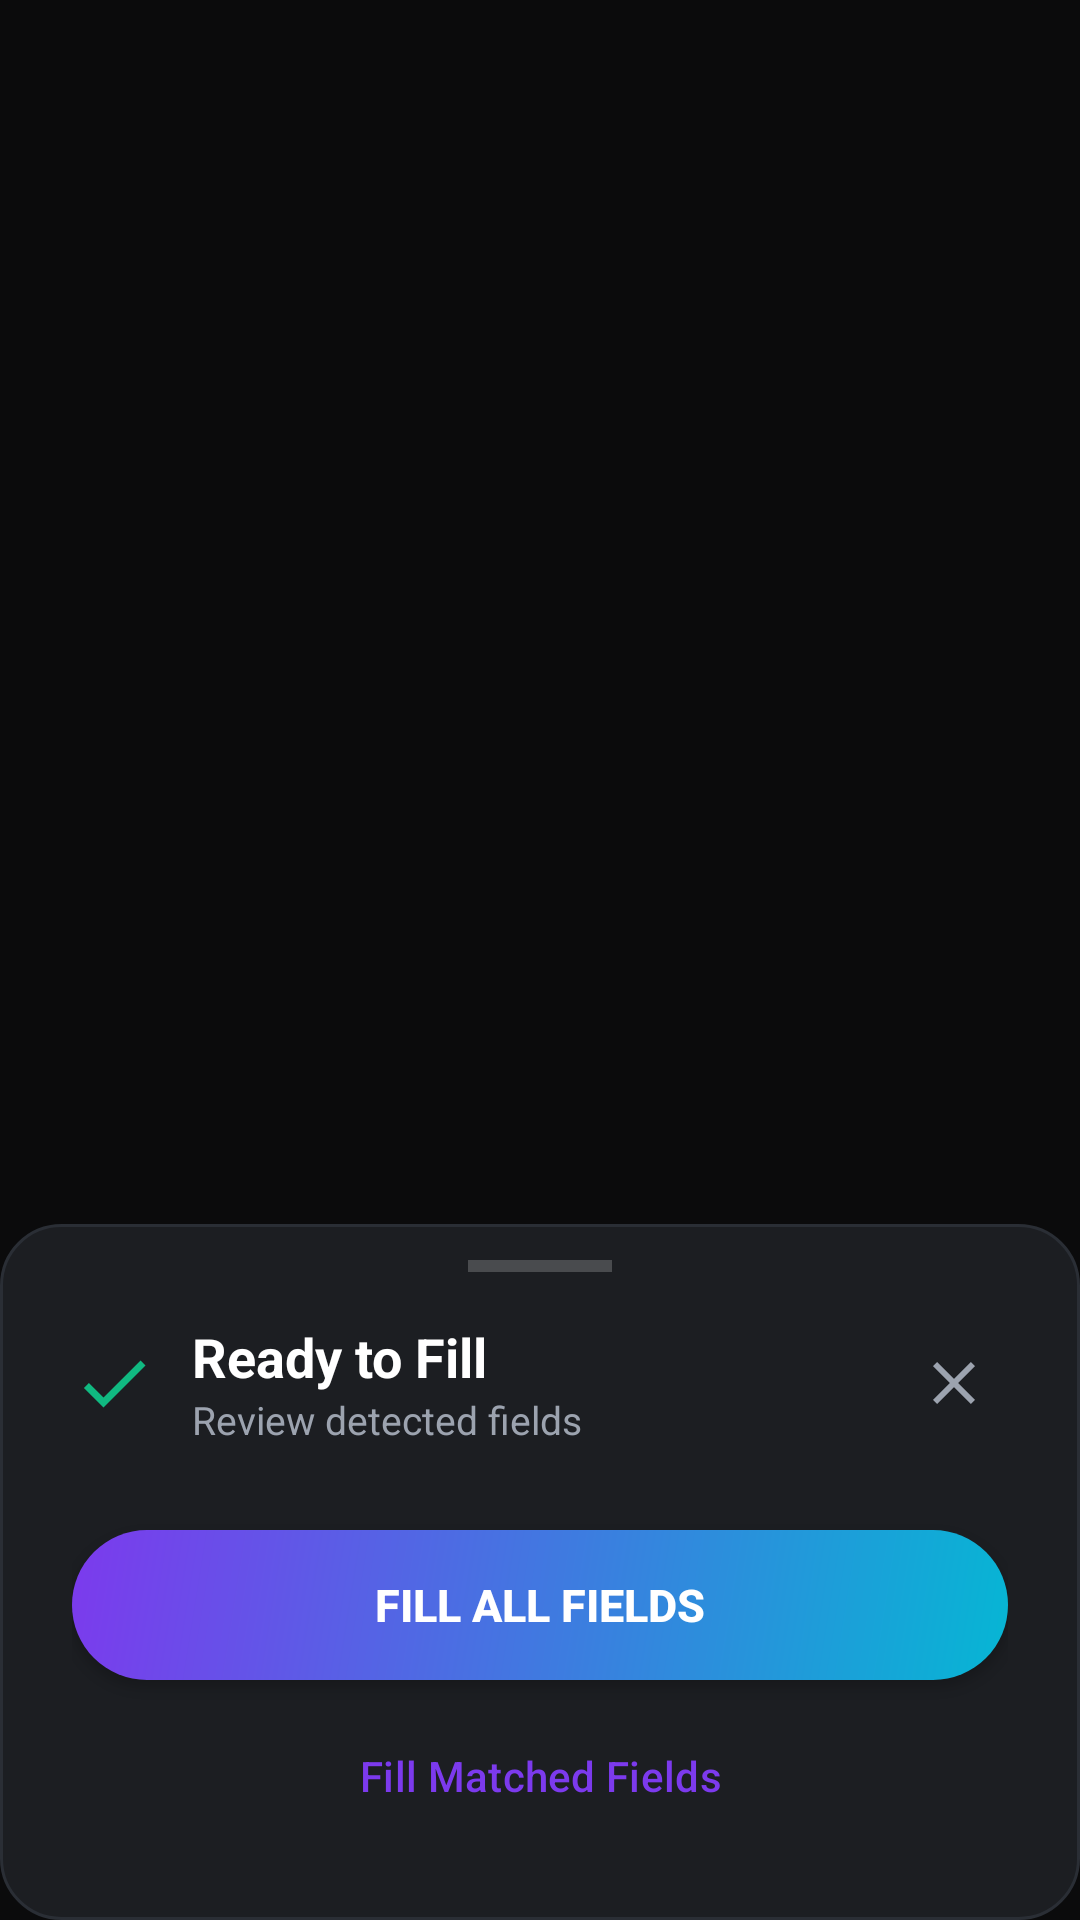

Where icons sit on this 1080px×1920px app screen, as Rect(x1, y1, x2, y2):
check: Rect(84, 1360, 146, 1408)
Close: Rect(933, 1362, 975, 1404)
